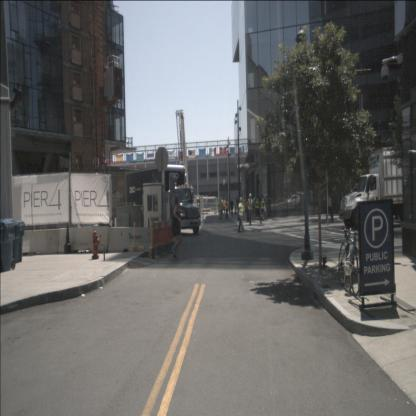barrier: (6, 228, 60, 256), (58, 227, 110, 254), (108, 226, 151, 254), (149, 220, 170, 259), (166, 218, 178, 254)
